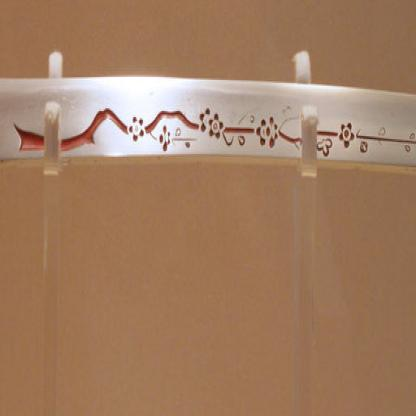knife: (0, 72, 415, 192)
